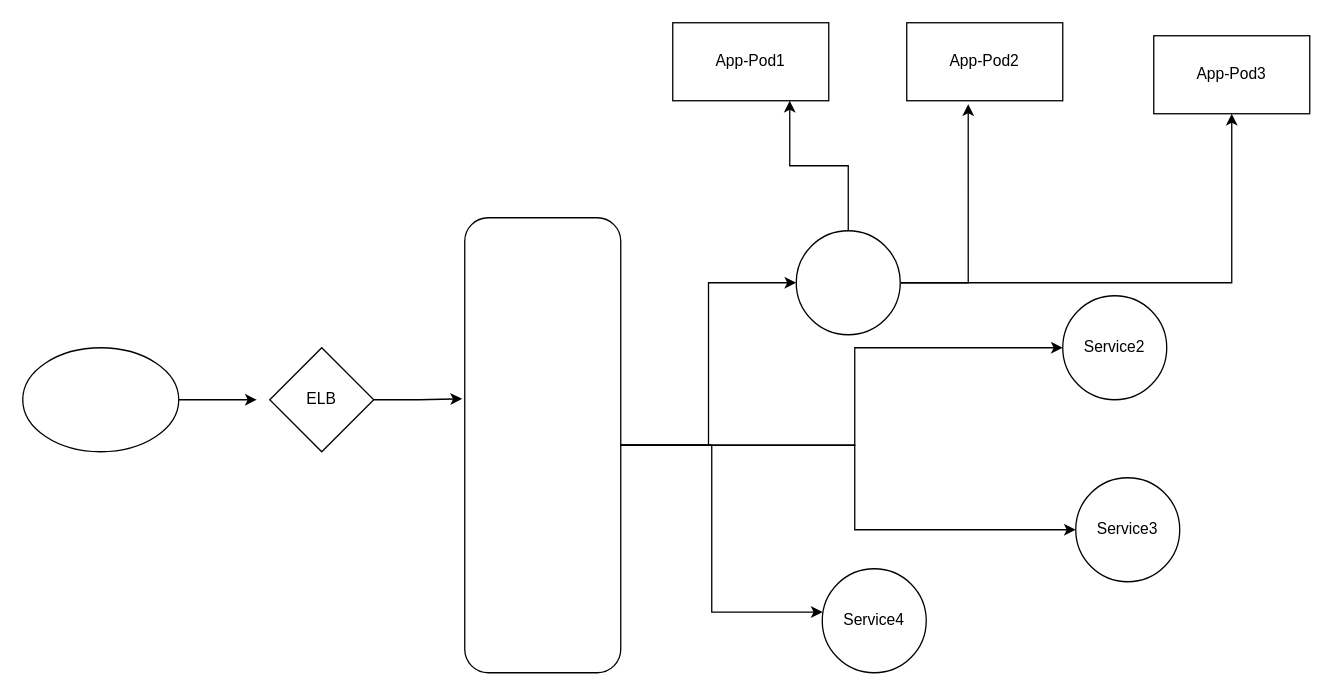
Some shapes in this 1333 by 696 pixel diagram are drawn without their labels. Each missing label, with the box of its shape:
Ingress Controller: (463, 216, 621, 673)
Route 53: (21, 346, 179, 452)
Service1: (795, 229, 900, 335)
